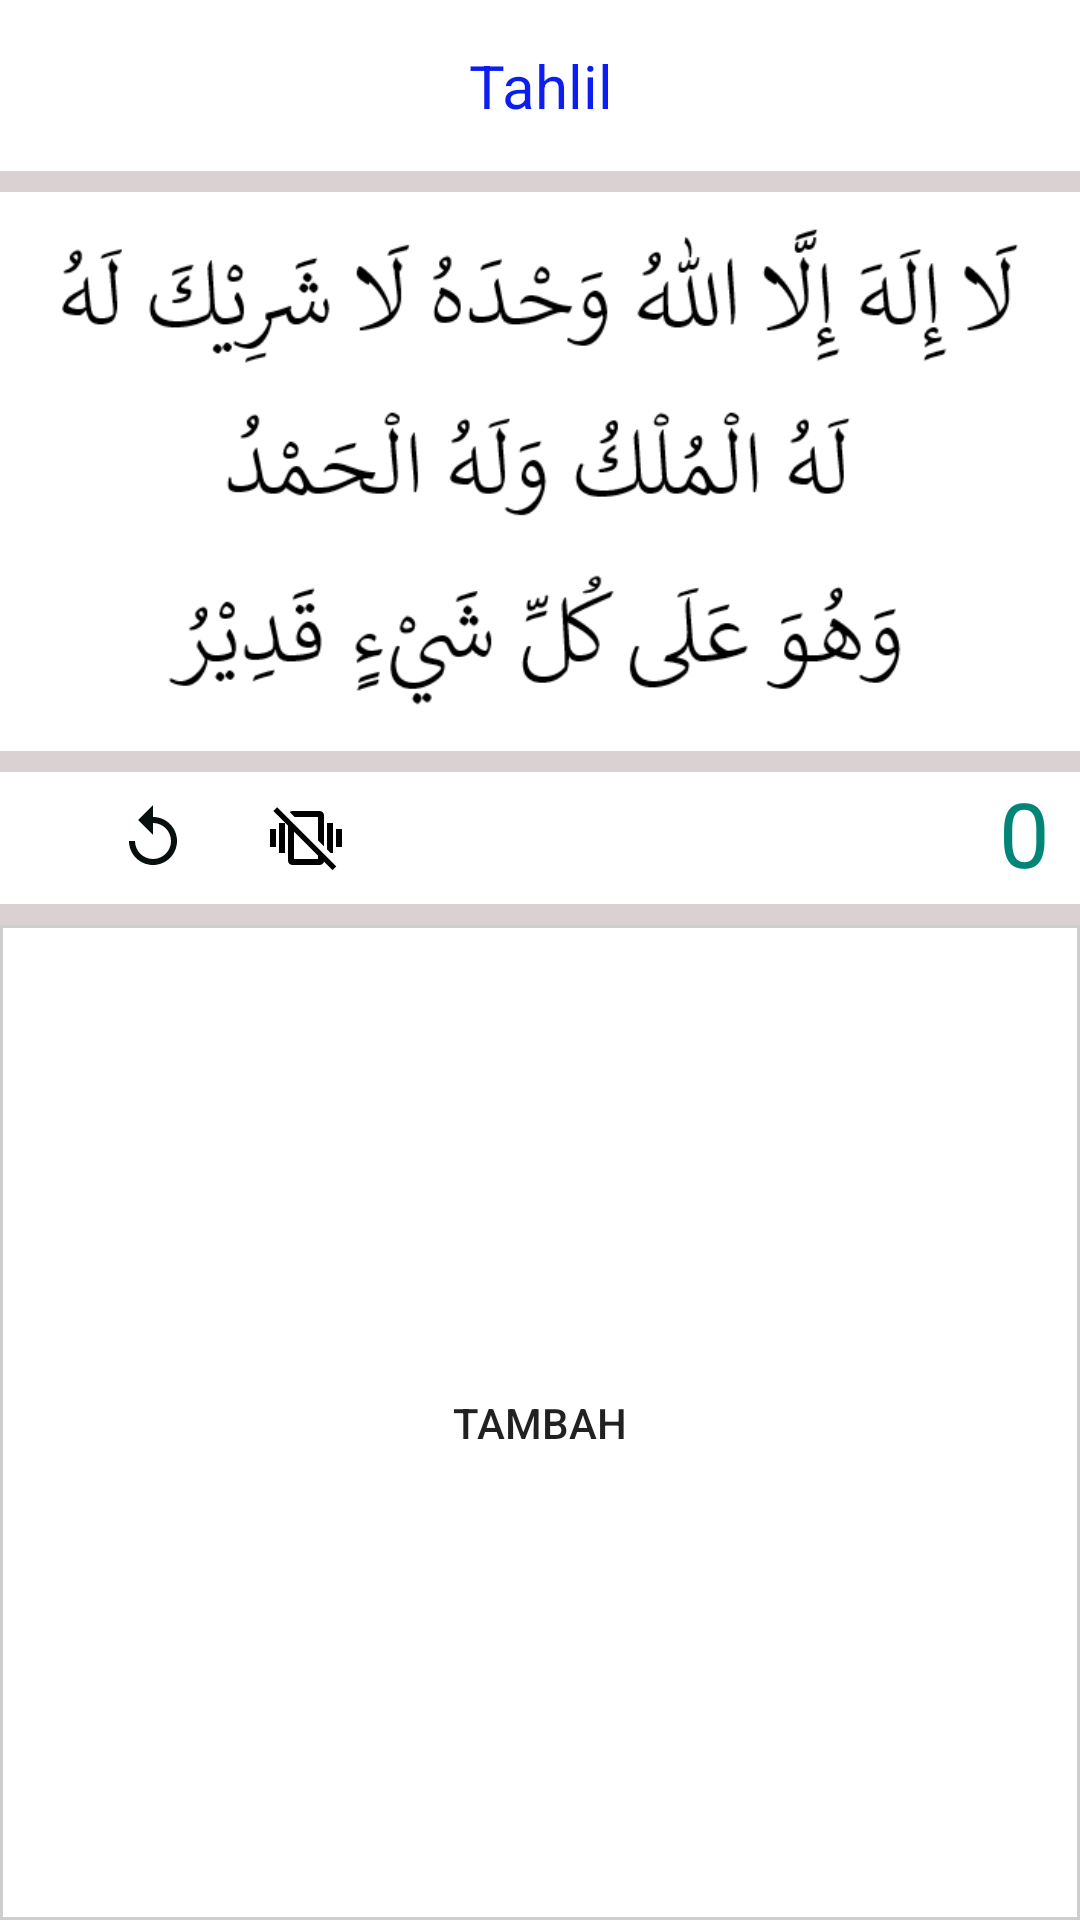

Locate icon controls on the screen. Image size 1080x1920, boxes as [x1,y1,x2,y2].
replay: [129,805,177,865]
vibrate off: [270,807,342,870]
